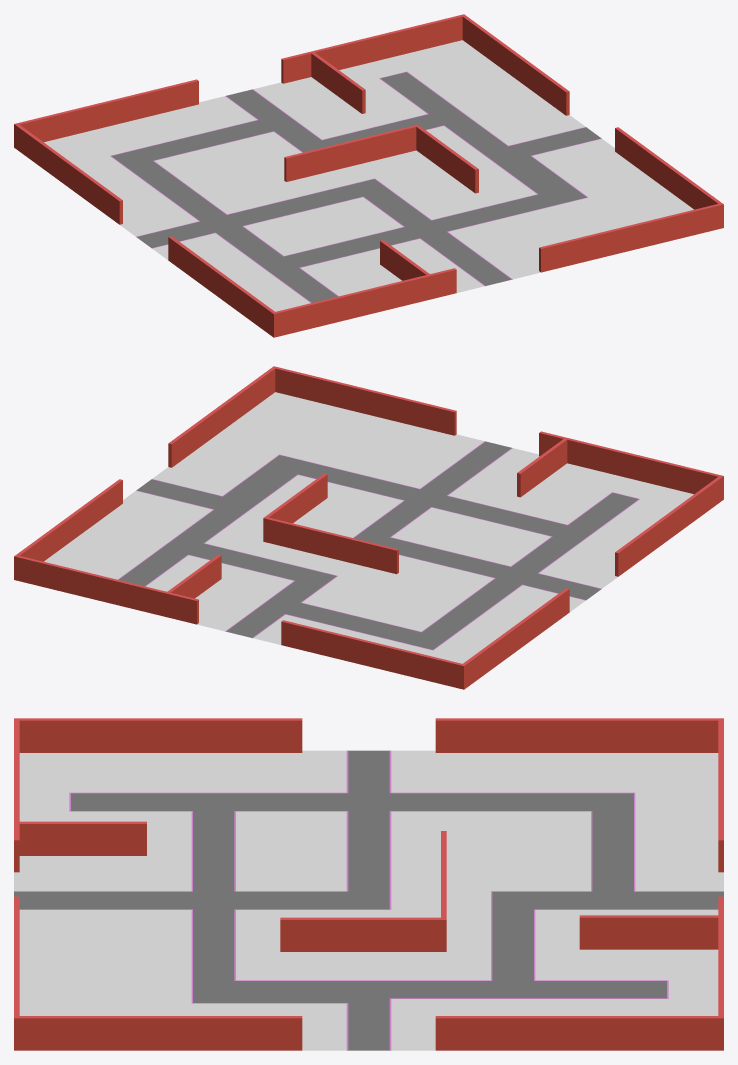
The model's file is Room 2.fbx.
The picture shows the model from 3 angles, top to bottom: view 1: azimuth 30°, elevation 25°; view 2: azimuth 150°, elevation 25°; view 3: azimuth 270°, elevation 25°; orthographic projection. The views are drawn at different scales.
Visible parts, largest first — view 1: Plane; view 2: Plane; view 3: Plane.
Boxes of the visible parts, left/top/right/bottom form: Plane: left=14, top=14, right=723, bottom=337; Plane: left=14, top=366, right=723, bottom=689; Plane: left=14, top=718, right=723, bottom=1050.
Bounding box in the file's own units: 600 × 30 × 600.
